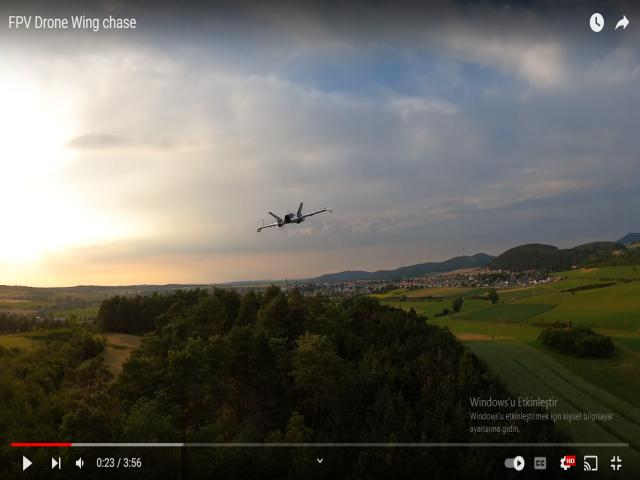plane: (256, 202, 331, 229)
